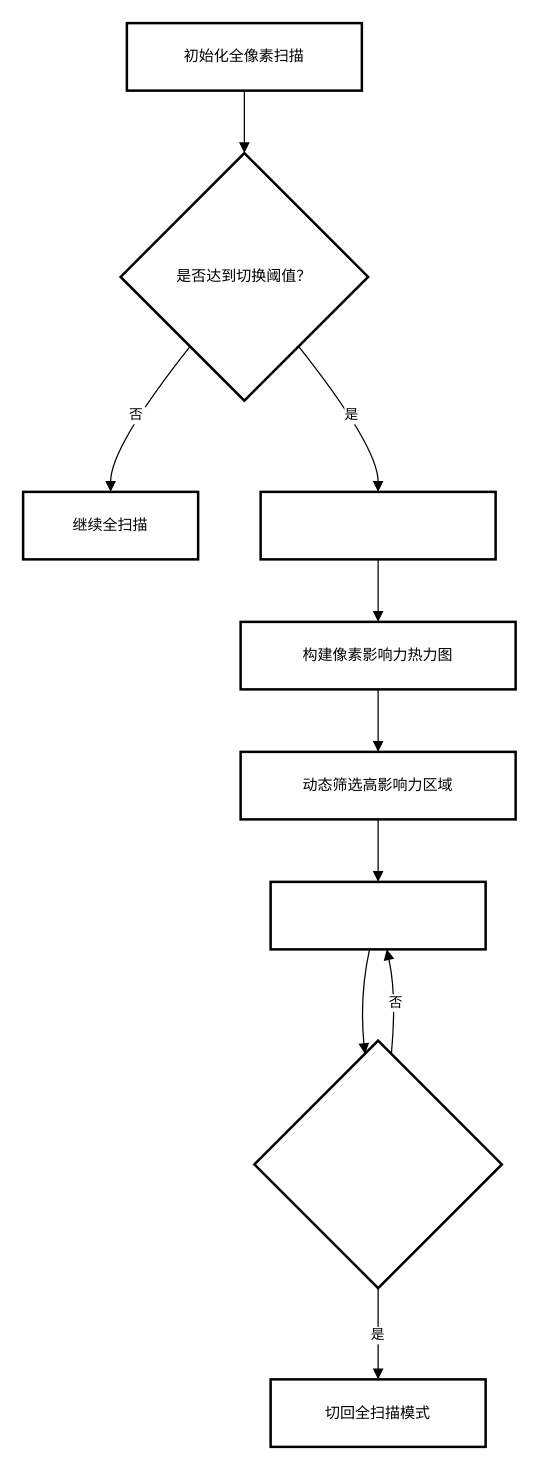
This 538x1469 diagram has some shape labels left out. The shapes that lost their labels are listed below. From the top down, each one's centre as x and y in pixels, then its label:
At [377,525]: "启用区域采样模式".
At [377,915]: "仅扫描选定区域".
At [377,1164]: "是否达到局部收敛？".
